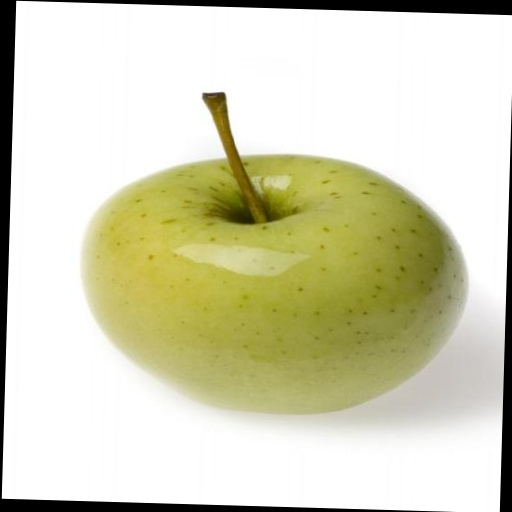fruit: (82, 156, 466, 413)
